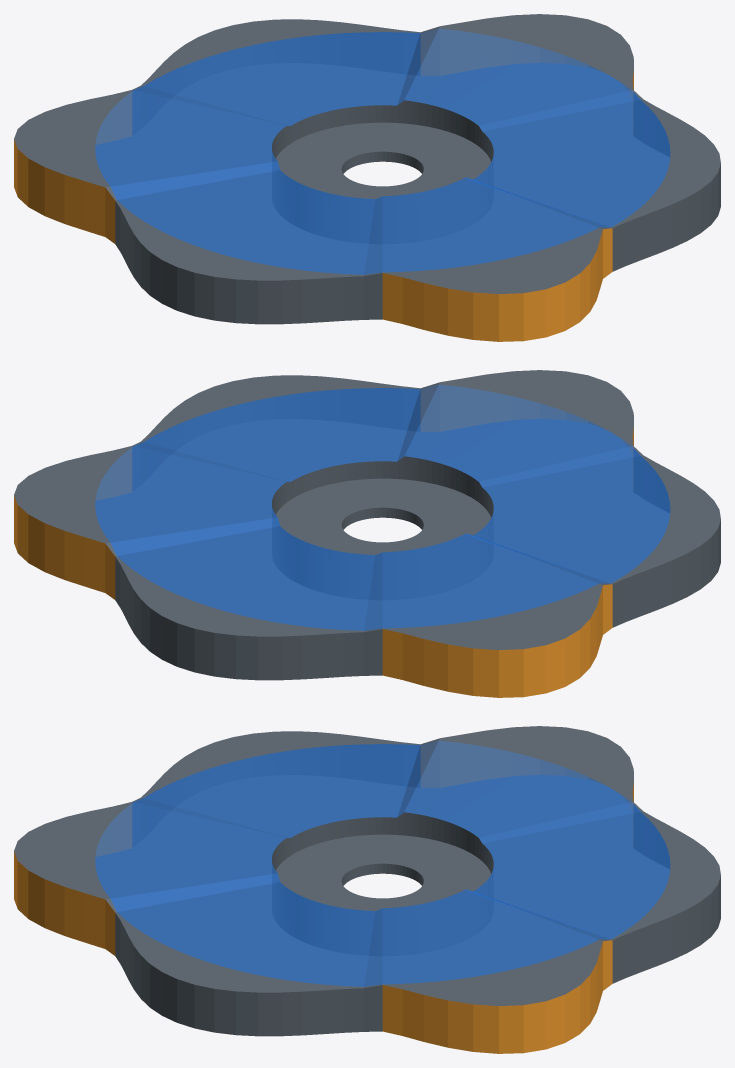
The model's file is blade_dual_comet.glb.
The picture shows the model from 3 angles, top to bottom: view 1: azimuth 30°, elevation 25°; view 2: azimuth 150°, elevation 25°; view 3: azimuth 270°, elevation 25°; orthographic projection.
Visible parts, largest first — view 1: GEO_blade_dual_comet_BODY, GEO_blade_dual_comet_NSS_V1_COLLAR; view 2: GEO_blade_dual_comet_BODY, GEO_blade_dual_comet_NSS_V1_COLLAR; view 3: GEO_blade_dual_comet_BODY, GEO_blade_dual_comet_NSS_V1_COLLAR.
Part boxes in pixels (bbox=[...]): GEO_blade_dual_comet_BODY: bbox=[14, 14, 720, 341]; GEO_blade_dual_comet_NSS_V1_COLLAR: bbox=[276, 122, 490, 198]; GEO_blade_dual_comet_BODY: bbox=[14, 370, 720, 697]; GEO_blade_dual_comet_NSS_V1_COLLAR: bbox=[276, 478, 490, 554]; GEO_blade_dual_comet_BODY: bbox=[14, 726, 720, 1053]; GEO_blade_dual_comet_NSS_V1_COLLAR: bbox=[276, 834, 490, 910].
Size of the model in its own units: 0.0643 by 0.00549 by 0.0688.
